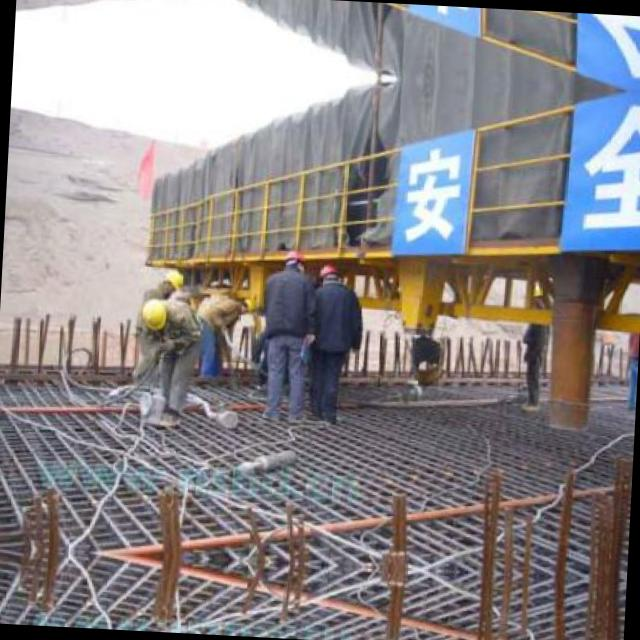helmet: (138, 294, 176, 332), (315, 258, 352, 290), (156, 264, 190, 298), (280, 246, 308, 277), (236, 292, 258, 315)
